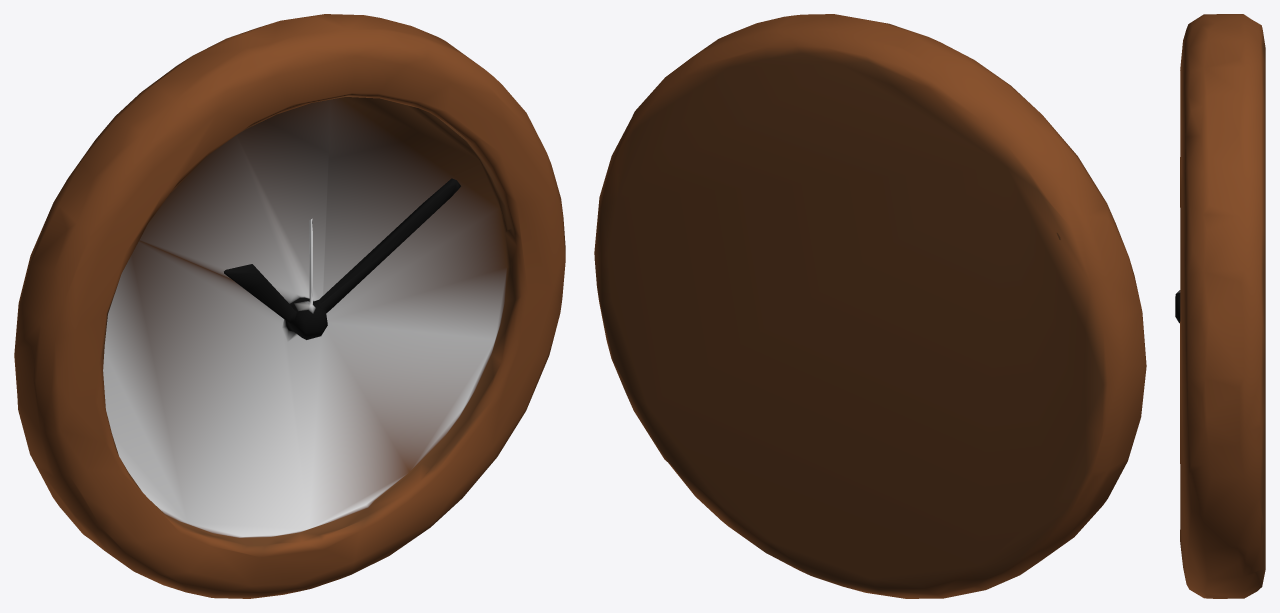
The model's file is gen3d-wall-clock-lod1.glb.
The picture shows the model from 3 angles, left to right: view 1: azimuth 30°, elevation 25°; view 2: azimuth 150°, elevation 25°; view 3: azimuth 270°, elevation 25°; orthographic projection. The views are drawn at different scales.
Visible parts, largest first — view 1: part_0; view 2: part_0; view 3: part_0.
Boxes of the visible parts, x1,y1,x2,y2 form: part_0: (14, 14, 565, 598); part_0: (594, 14, 1146, 598); part_0: (1175, 14, 1265, 598).
Size of the model in its own units: 0.9997 by 0.9998 by 0.1546.
